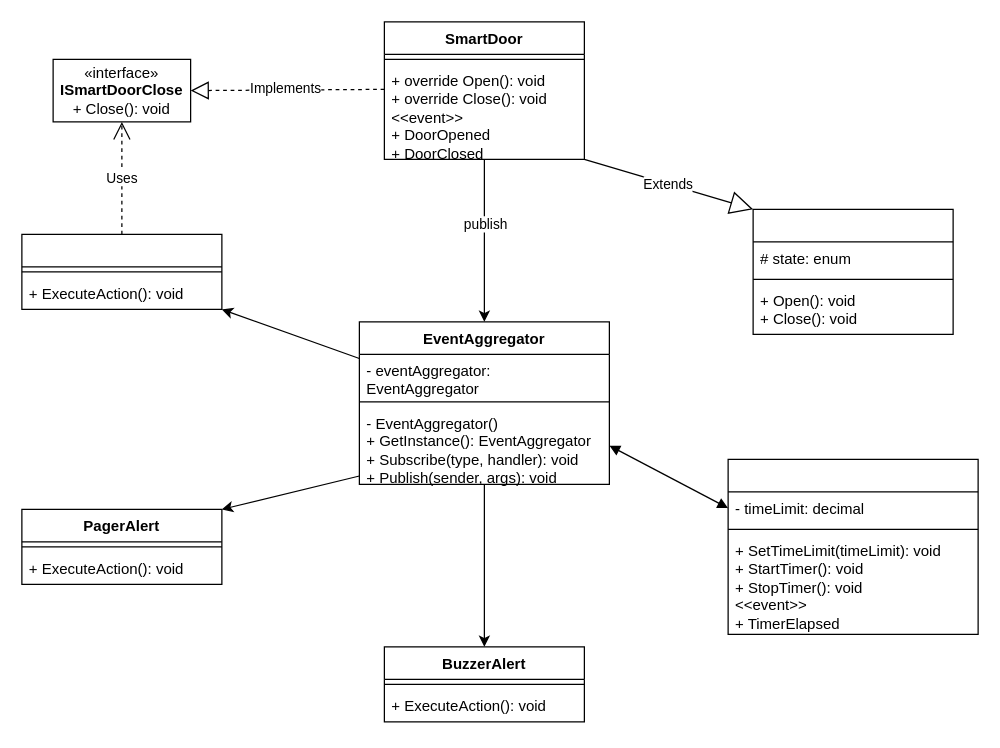
This 1000x748 diagram has some shape labels left out. The shapes that lost their labels are listed below. From the top down, each one's box as (x1, y1, x2, y2) in pixels, then its label:
(21, 233, 222, 309): AutoClose
(752, 208, 953, 334): SimpleDoor
(727, 458, 978, 634): TimerController
